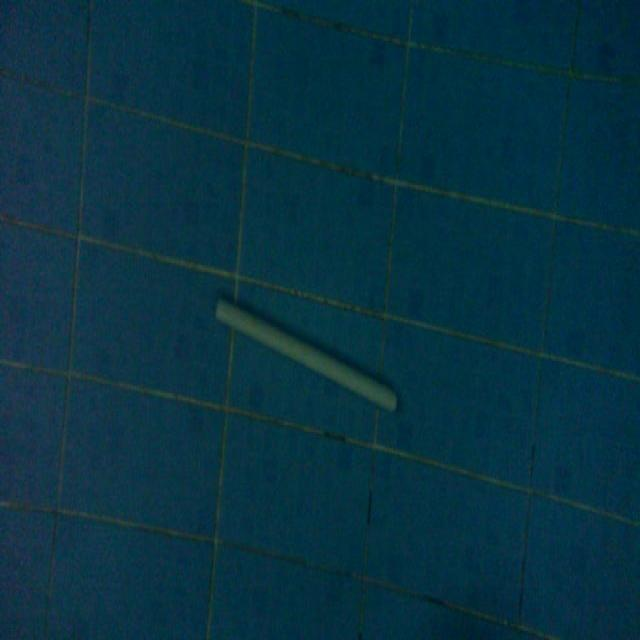Cube: (213, 290, 399, 418)
